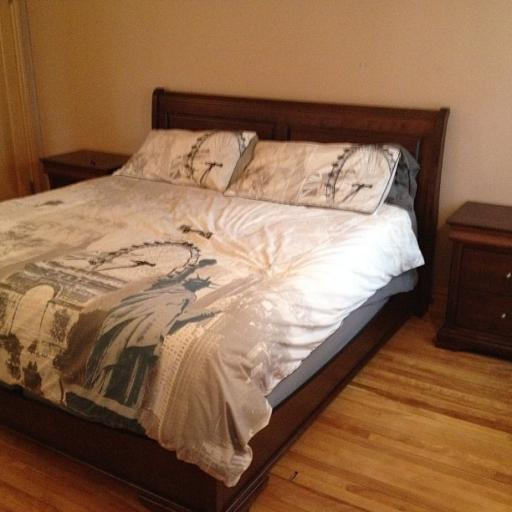bed: (25, 68, 460, 506)
